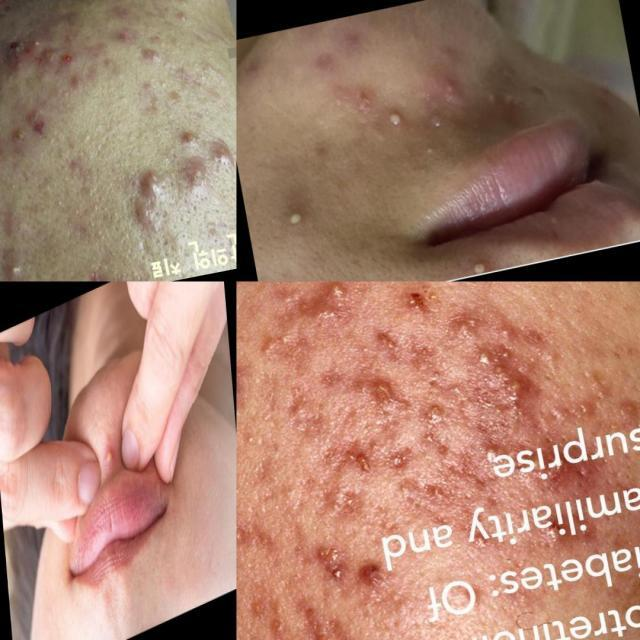Pimples: (448, 322, 552, 424), (308, 529, 358, 593), (273, 605, 357, 640), (479, 72, 531, 125), (128, 162, 170, 200), (347, 433, 377, 486), (376, 370, 410, 416), (378, 92, 407, 136), (318, 282, 360, 310), (78, 250, 112, 282), (274, 204, 306, 236), (36, 39, 64, 71), (136, 37, 163, 69), (100, 429, 116, 479), (26, 109, 50, 142), (436, 69, 458, 104), (183, 160, 208, 188), (174, 128, 202, 151), (2, 258, 28, 280), (214, 138, 234, 166), (466, 253, 488, 276), (9, 52, 31, 74)
